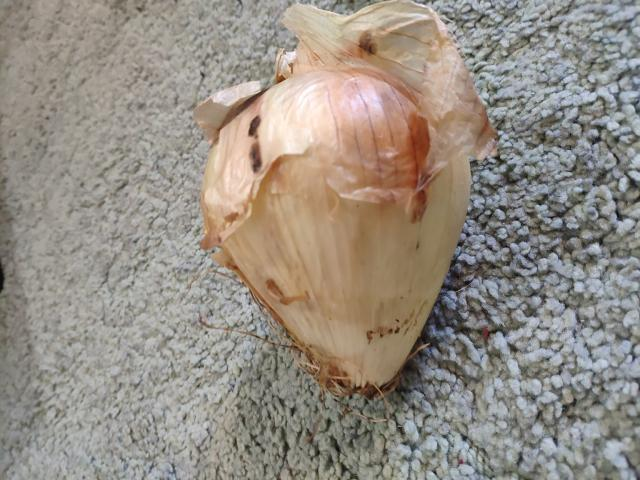onion: (196, 81, 452, 397)
